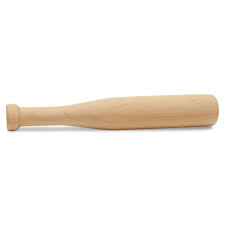bat: (5, 92, 220, 133)
